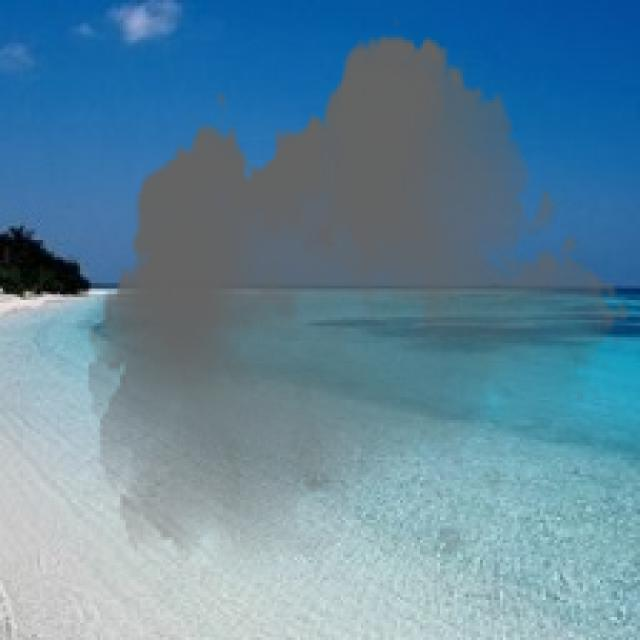smoke: (89, 14, 632, 580)
